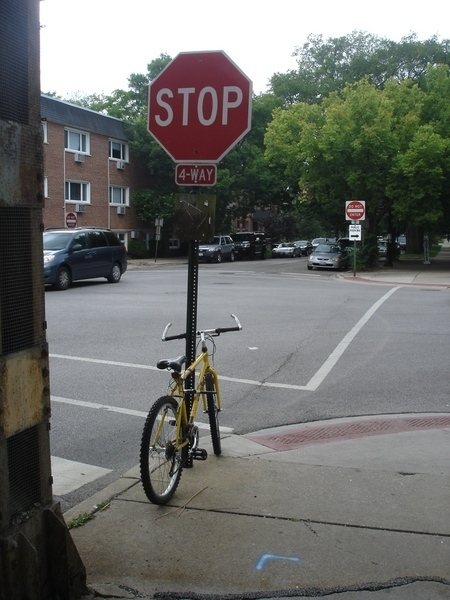stopsign: (146, 51, 253, 163)
